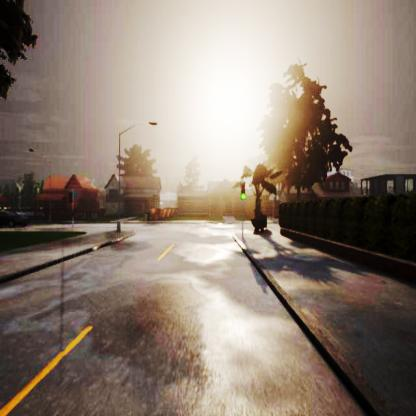vehicle: (0, 207, 29, 227)
